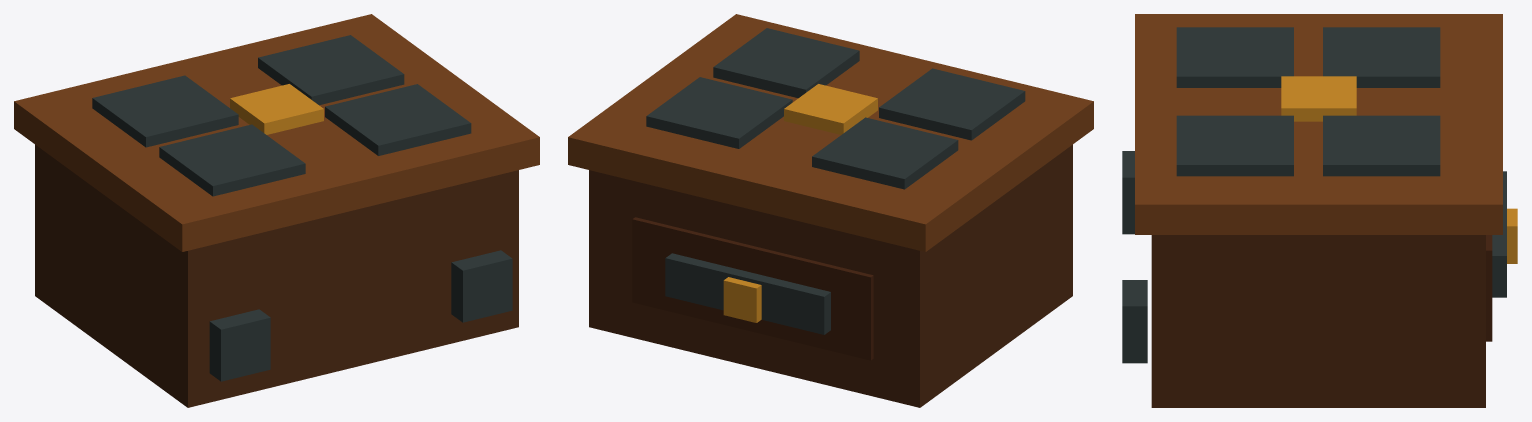
The model's file is crafting_bench.obj.
The picture shows the model from 3 angles, left to right: view 1: azimuth 30°, elevation 25°; view 2: azimuth 150°, elevation 25°; view 3: azimuth 270°, elevation 25°; orthographic projection. The views are drawn at different scales.
Parts seen in each view (by area): view 1: timber, bark_light, iron, gold; view 2: timber, bark_light, iron, bark, gold; view 3: timber, bark_light, iron, gold, bark.
Boxes of the visible parts, x1,y1,x2,y2 form: timber: [35, 144, 518, 407]; bark_light: [14, 14, 539, 251]; iron: [92, 35, 512, 381]; gold: [230, 84, 323, 134]; timber: [589, 144, 1072, 407]; bark_light: [568, 14, 1093, 251]; iron: [646, 28, 1025, 334]; bark: [632, 217, 873, 360]; gold: [723, 84, 877, 322]; timber: [1151, 235, 1485, 407]; bark_light: [1135, 14, 1502, 234]; iron: [1122, 27, 1506, 363]; gold: [1281, 76, 1517, 263]; bark: [1486, 235, 1492, 341].
Bounding box in the file's own units: 2.16 × 1.2 × 1.89.
